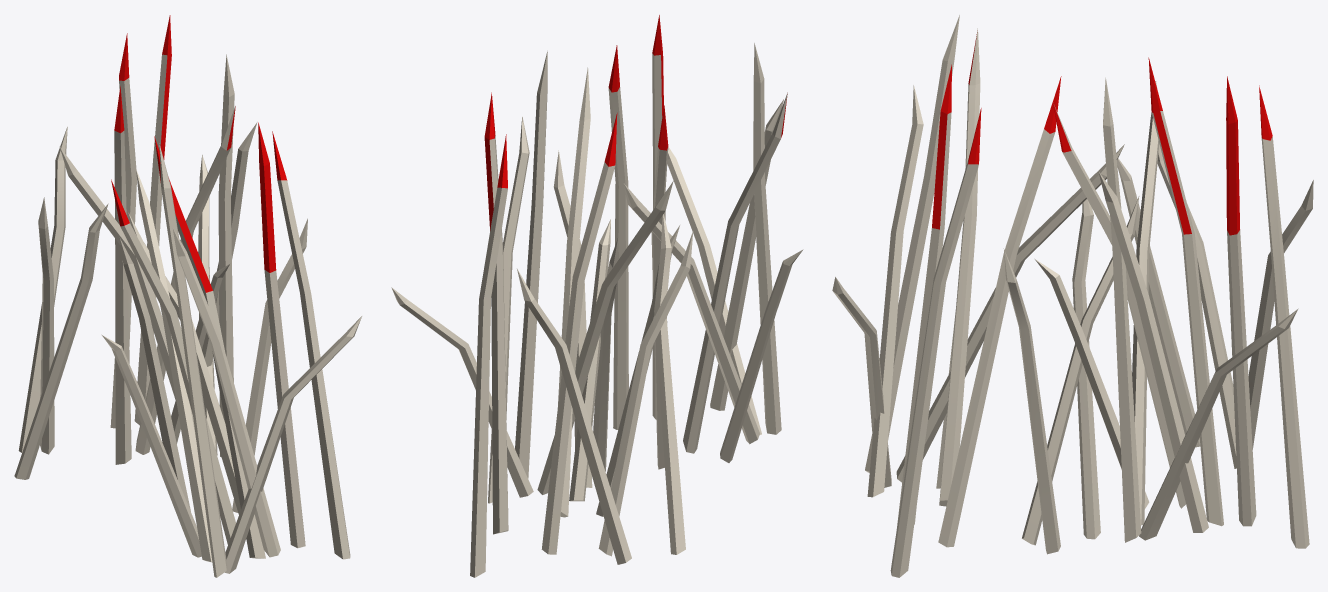
Rendered from bloodSpikes.fbx.
3 renders of one model, left to right at view 1: azimuth 30°, elevation 25°; view 2: azimuth 150°, elevation 25°; view 3: azimuth 270°, elevation 25°, orthographic. The views are drawn at different scales.
Visible parts, largest first — view 1: SM_Prop_Hell_Spikes_02; view 2: SM_Prop_Hell_Spikes_02; view 3: SM_Prop_Hell_Spikes_02.
Boxes of the visible parts, x1,y1,x2,y2 form: SM_Prop_Hell_Spikes_02: [14, 15, 361, 577]; SM_Prop_Hell_Spikes_02: [391, 15, 803, 577]; SM_Prop_Hell_Spikes_02: [832, 15, 1313, 577].
Bounding box in the file's own units: 634 × 1079 × 958.
